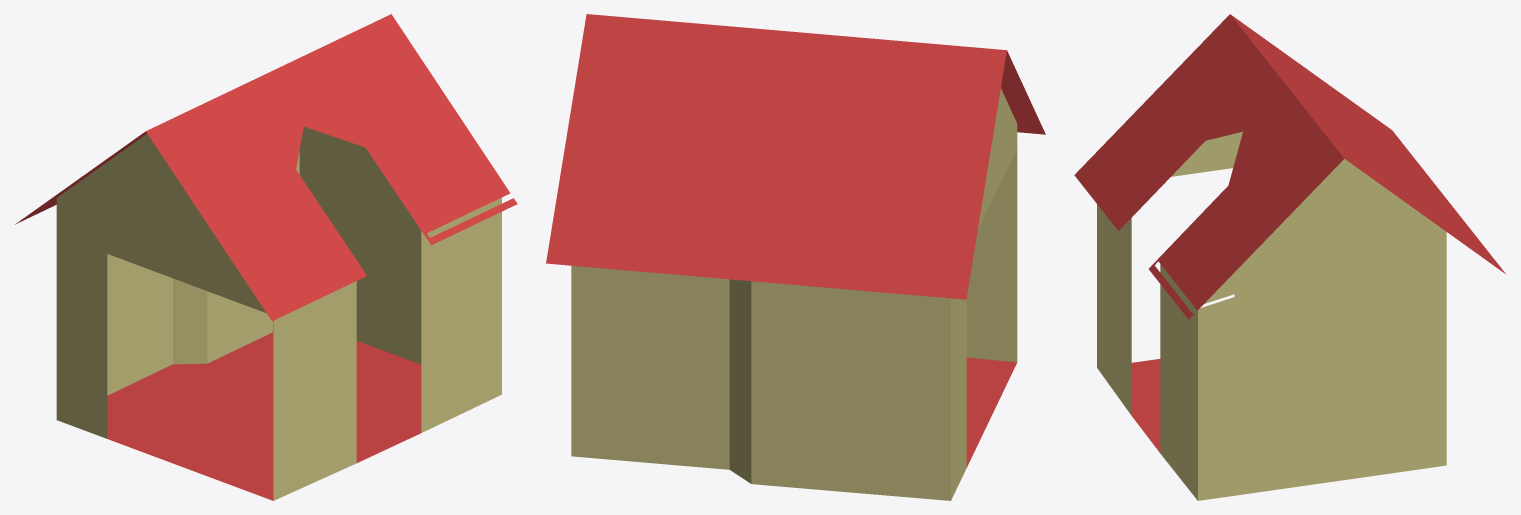
The picture shows the model from 3 angles, left to right: view 1: azimuth 30°, elevation 25°; view 2: azimuth 150°, elevation 25°; view 3: azimuth 270°, elevation 25°; orthographic projection. The views are drawn at different scales.
Bounding box in the file's own units: 14.87 × 14.34 × 11.91.
